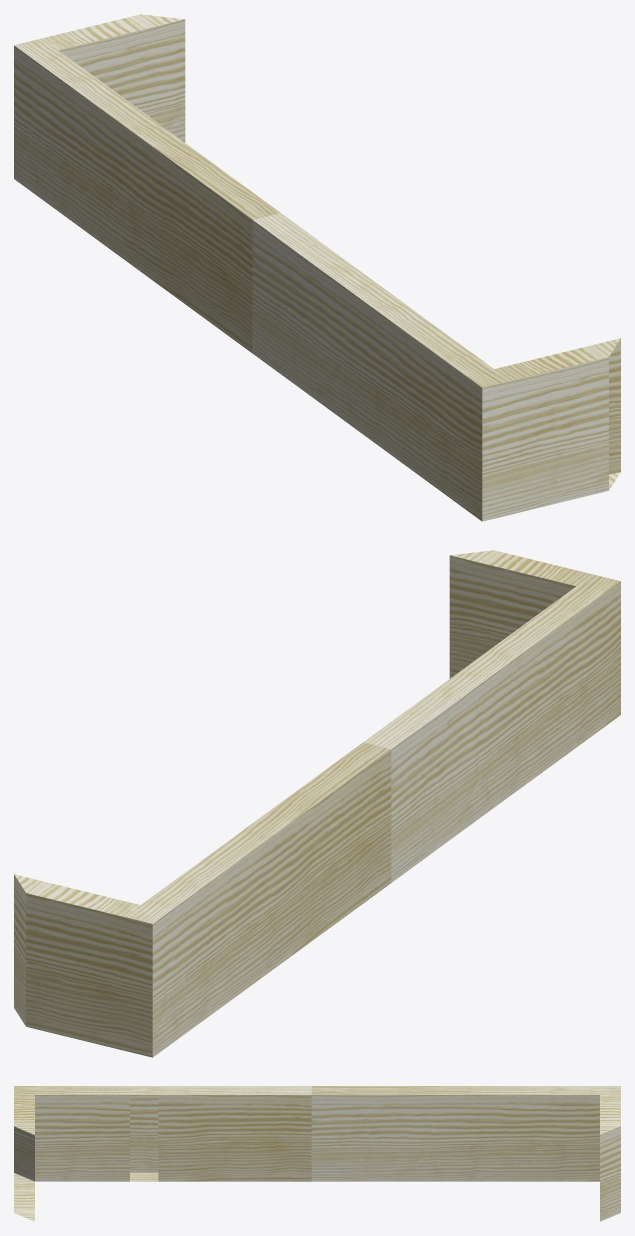
3 renders of one model, top to bottom at view 1: azimuth 30°, elevation 25°; view 2: azimuth 150°, elevation 25°; view 3: azimuth 270°, elevation 25°, orthographic. The views are drawn at different scales.
Size of the model in its own units: 0.1471 by 0.1212 by 0.7693.
